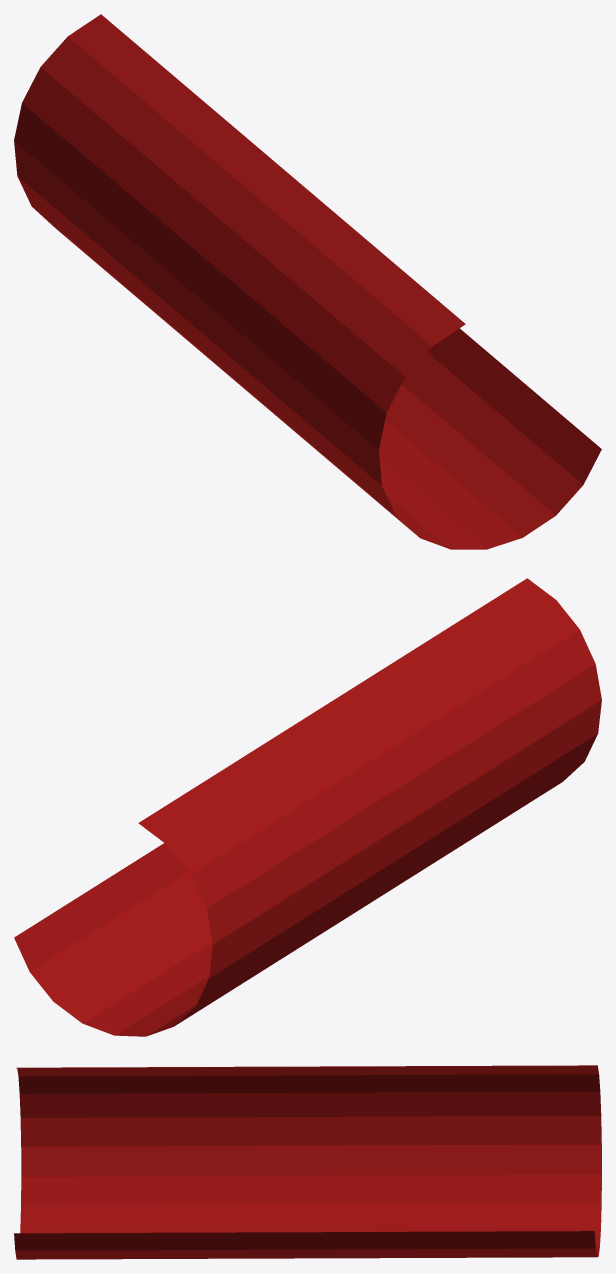
File: Level1.glb
3 views of the same model, one above another, from view 1: azimuth 30°, elevation 25°; view 2: azimuth 150°, elevation 25°; view 3: azimuth 270°, elevation 25° (orthographic). The views are drawn at different scales.
Visible parts, largest first — view 1: Circle; view 2: Circle; view 3: Circle.
Part boxes in pixels (x1=…): Circle: x1=14, y1=14, x2=601, y2=549; Circle: x1=14, y1=578, x2=601, y2=1036; Circle: x1=14, y1=1065, x2=601, y2=1259.
Size of the model in its own units: 22.76 by 22.04 by 63.62.
